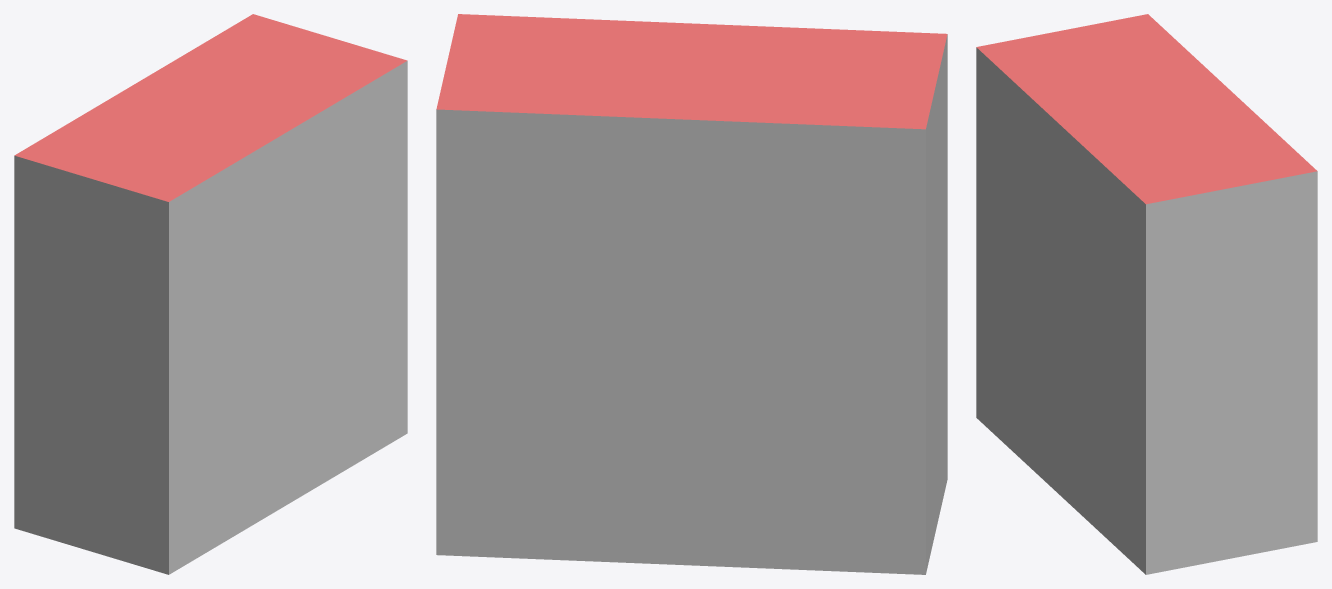
Rendered from ID_edc6dbb4-ca96-4f1f-9535-9b881639faa4.gltf.
3 views of the same model, side by side, from view 1: azimuth 30°, elevation 25°; view 2: azimuth 150°, elevation 25°; view 3: azimuth 270°, elevation 25° (orthographic). The views are drawn at different scales.
Parts seen in each view (by area): view 1: Z_UP; view 2: Z_UP; view 3: Z_UP.
Part boxes in pixels (x1,y1,x2,y2): Z_UP: (14, 14, 407, 574); Z_UP: (436, 14, 947, 574); Z_UP: (976, 14, 1317, 574).
Size of the model in its own units: 14.32 by 13 by 10.85.
